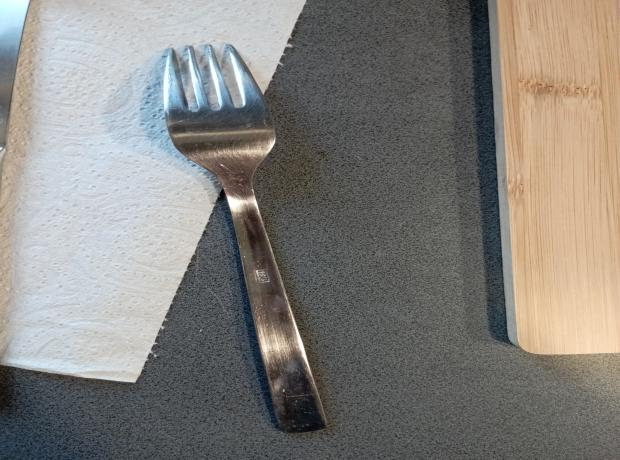metal: (153, 42, 337, 434)
